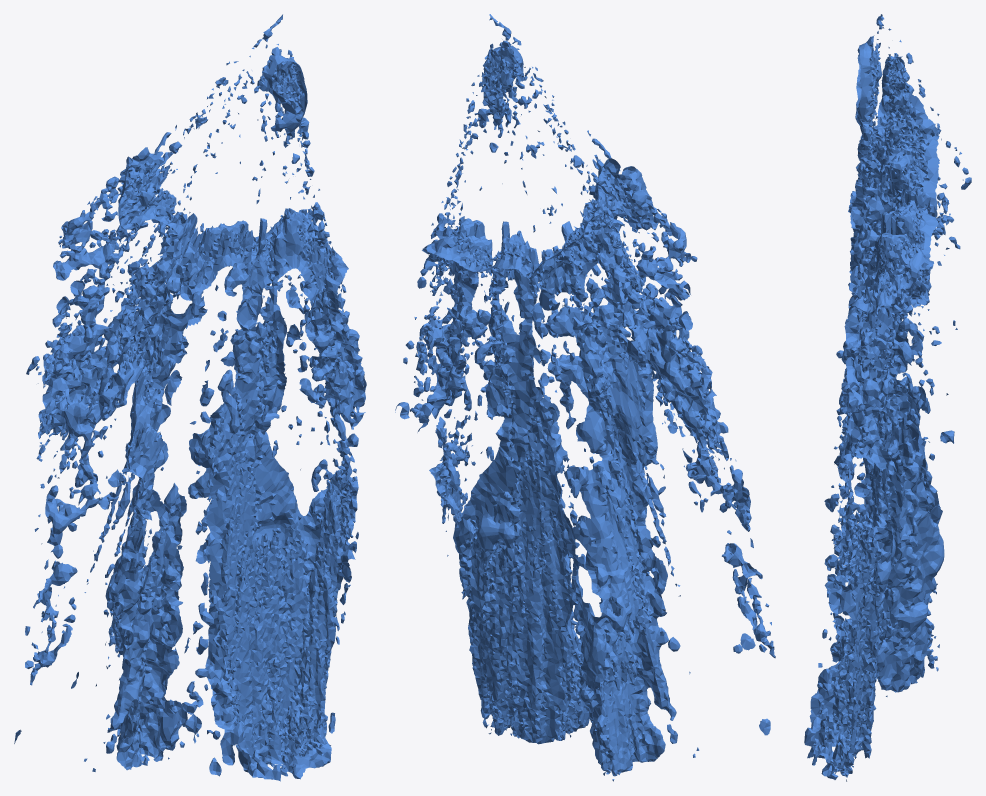
File: stocznia.fbx
3 views of the same model, side by side, from view 1: azimuth 30°, elevation 25°; view 2: azimuth 150°, elevation 25°; view 3: azimuth 270°, elevation 25° (orthographic). The views are drawn at different scales.
Visible parts, largest first — view 1: Model; view 2: Model; view 3: Model.
Part boxes in pixels (bbox=[...]): Model: bbox=[14, 14, 366, 781]; Model: bbox=[395, 14, 775, 781]; Model: bbox=[804, 14, 971, 781].
Bounding box in the file's own units: 92.54 × 37.61 × 188.
